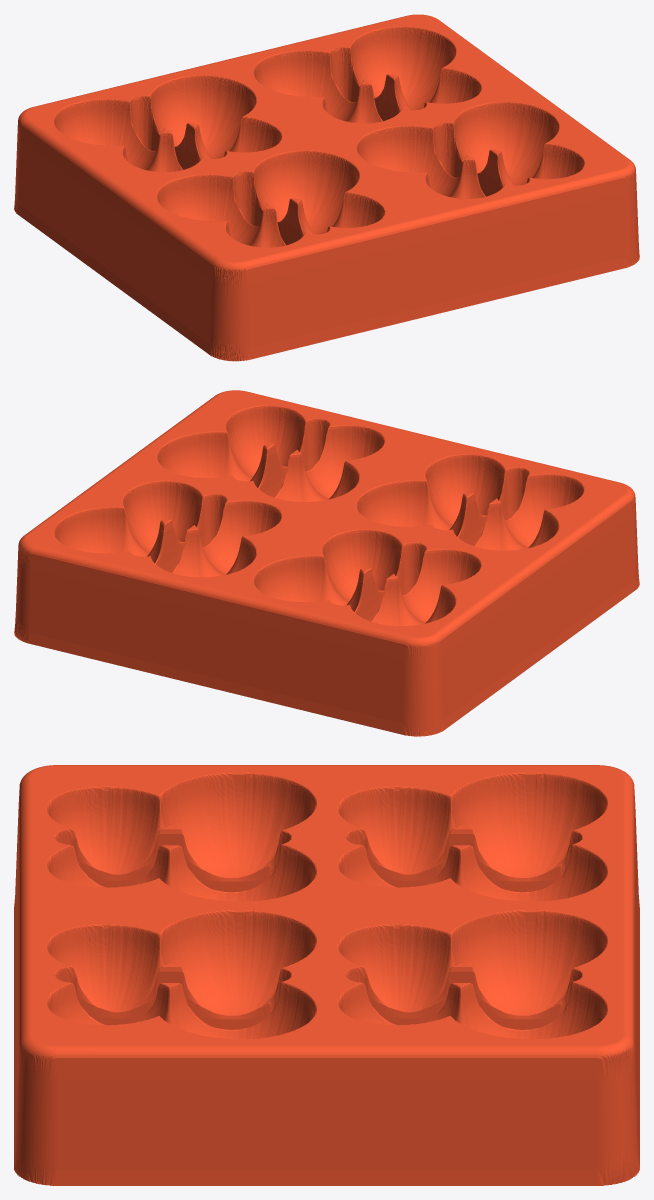
File: mold.glb
3 renders of one model, top to bottom at view 1: azimuth 30°, elevation 25°; view 2: azimuth 150°, elevation 25°; view 3: azimuth 270°, elevation 25°, orthographic. The views are drawn at different scales.
Visible parts, largest first — view 1: geometry_0; view 2: geometry_0; view 3: geometry_0.
Part boxes in pixels (<box>): geometry_0: <box>14,14,639,361</box>; geometry_0: <box>14,390,639,736</box>; geometry_0: <box>14,765,639,1185</box>.
Size of the model in its own units: 0.1466 by 0.031 by 0.132.
